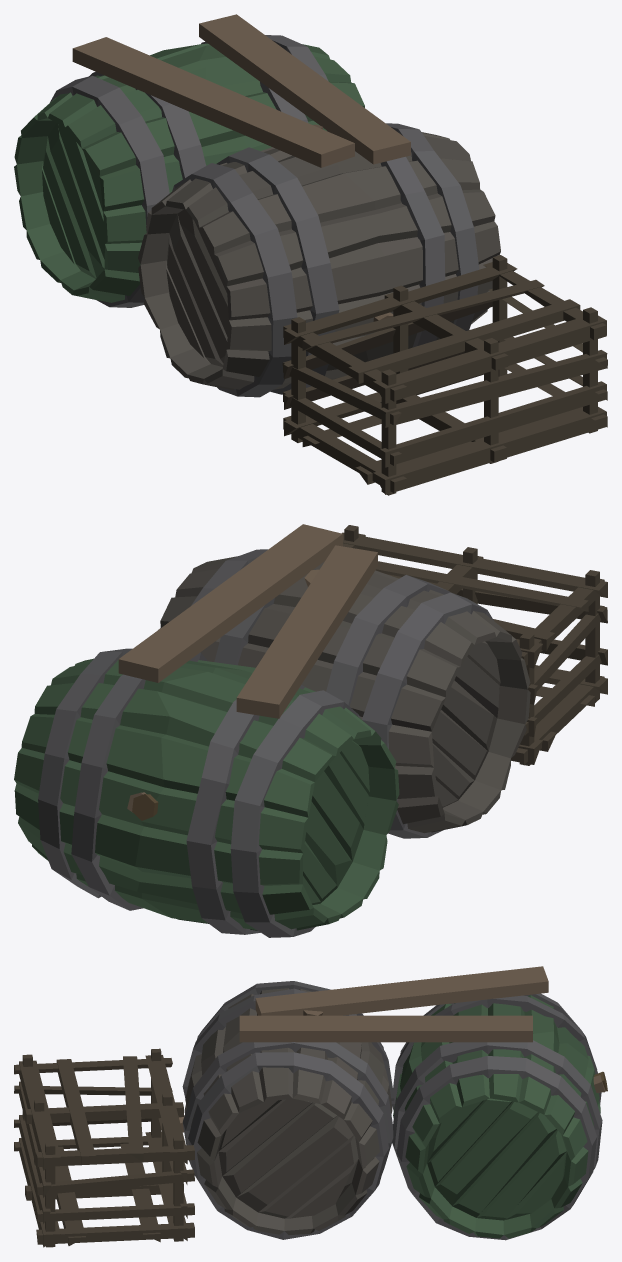
File: SM_Prop_Stack_05.glb
The picture shows the model from 3 angles, top to bottom: view 1: azimuth 30°, elevation 25°; view 2: azimuth 150°, elevation 25°; view 3: azimuth 270°, elevation 25°; orthographic projection. The views are drawn at different scales.
Parts seen in each view (by area): view 1: SM_Prop_Stack_05; view 2: SM_Prop_Stack_05; view 3: SM_Prop_Stack_05.
Boxes of the visible parts, x1=… form: SM_Prop_Stack_05: x1=14, y1=14, x2=607, y2=495; SM_Prop_Stack_05: x1=14, y1=524, x2=607, y2=937; SM_Prop_Stack_05: x1=14, y1=966, x2=607, y2=1247.
Size of the model in its own units: 0.0109 by 0.00901 by 0.024.
